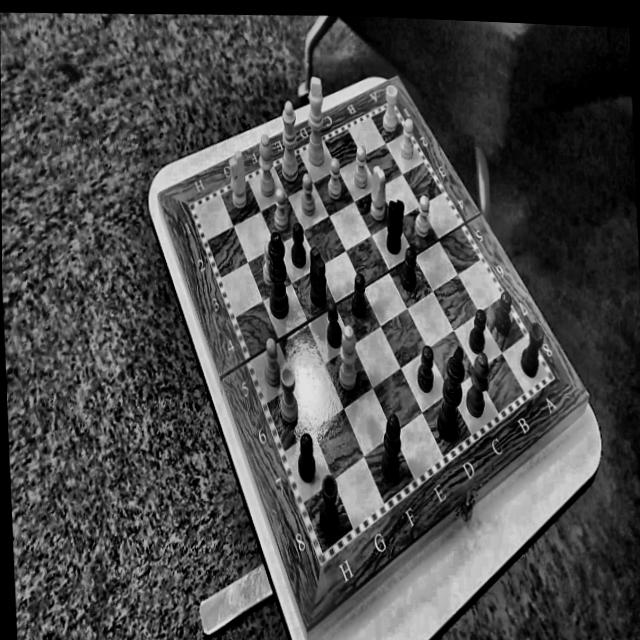chessboard: (194, 105, 546, 552)
